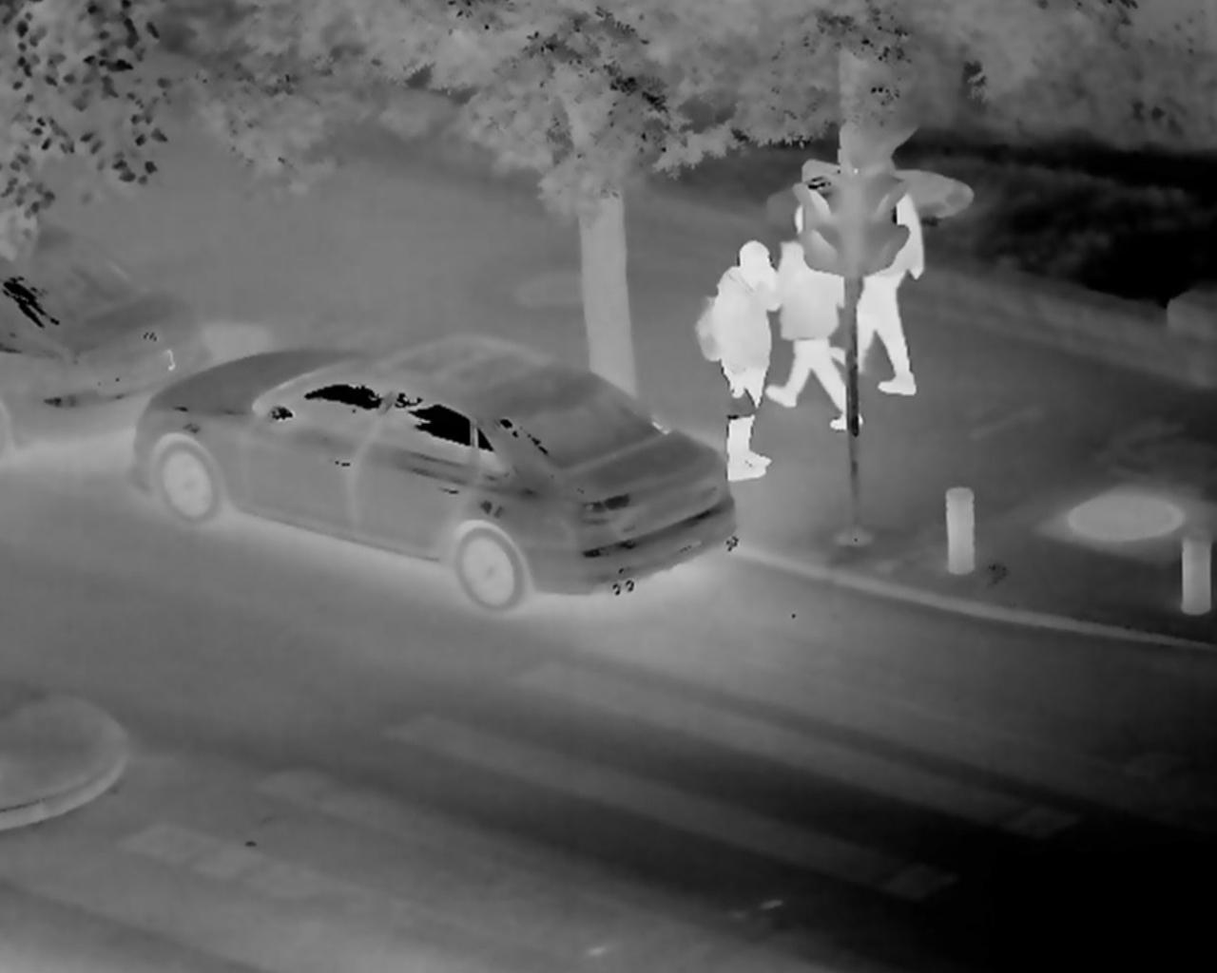person: (700, 237, 783, 489), (849, 162, 926, 401), (781, 208, 859, 432)
